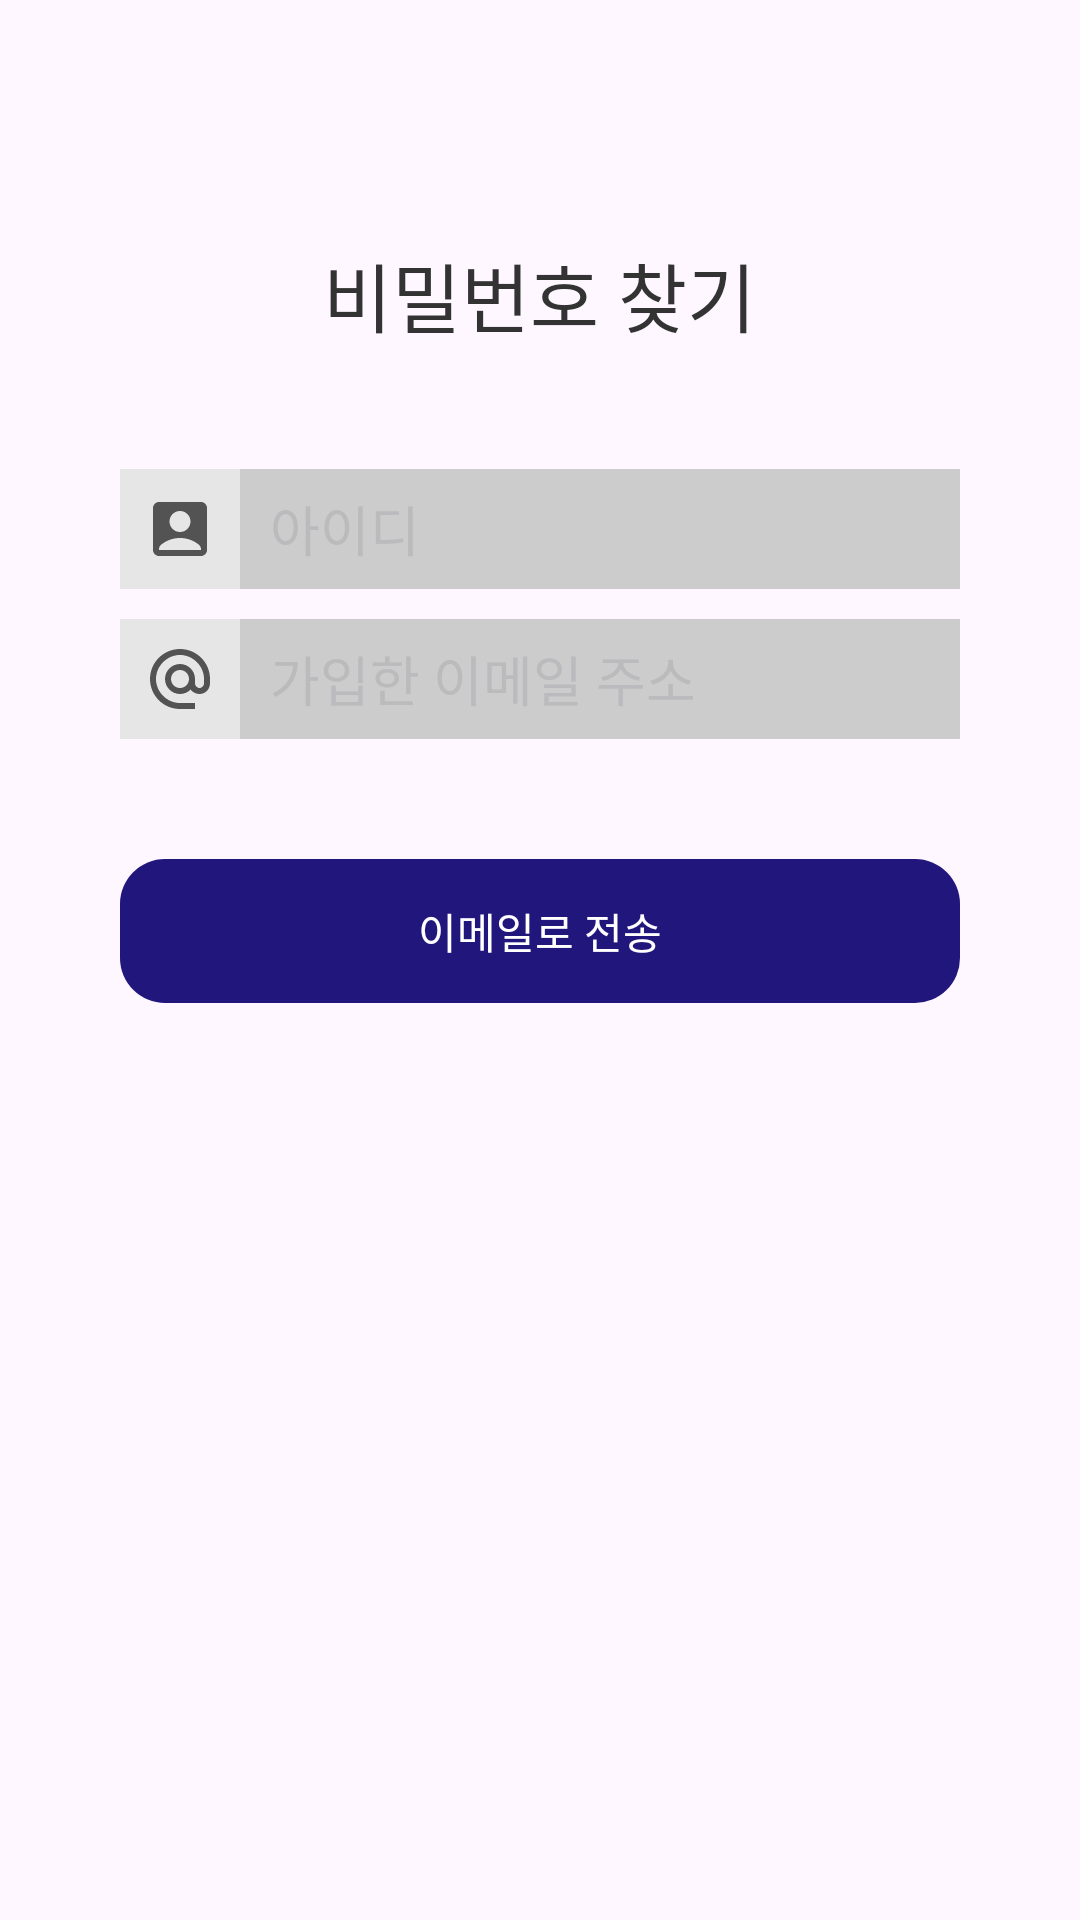

Icon click points for this 1080x1920 phone screenshot, format [x,y]:
account email: [180,679]
account id: [180,529]
